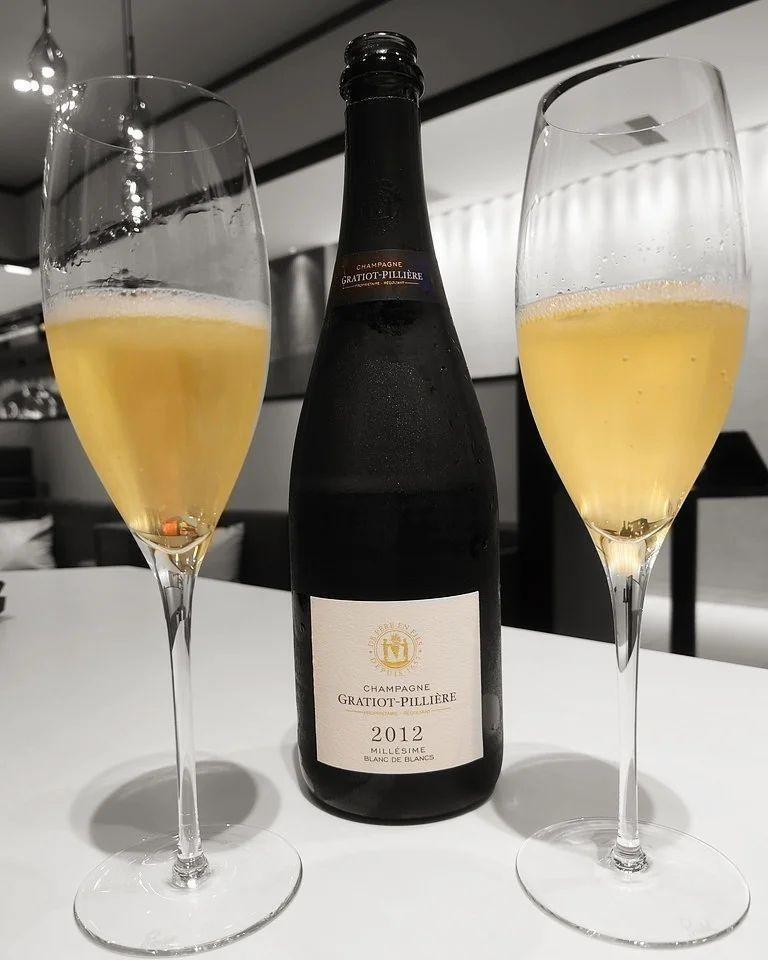bottle-glass: (279, 21, 520, 841)
glass-wine: (17, 62, 318, 959), (501, 47, 768, 950)
